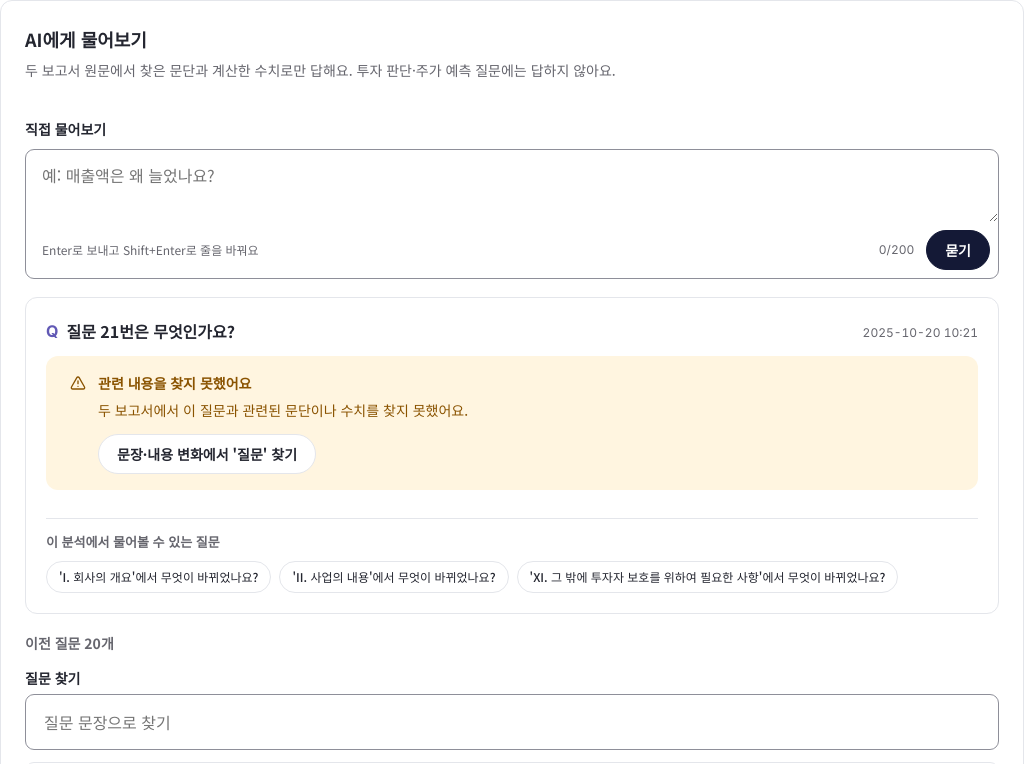
AskTab 지난 답 접기 › 질문 찾기로 목록을 좁히고, 없으면 맞는 질문이 없다고 알린다
The image size is (1024, 764).
Type "질문 1 2번" into the search field labelled "질문 찾기". click: (512, 722)
box: [25,694,999,750]
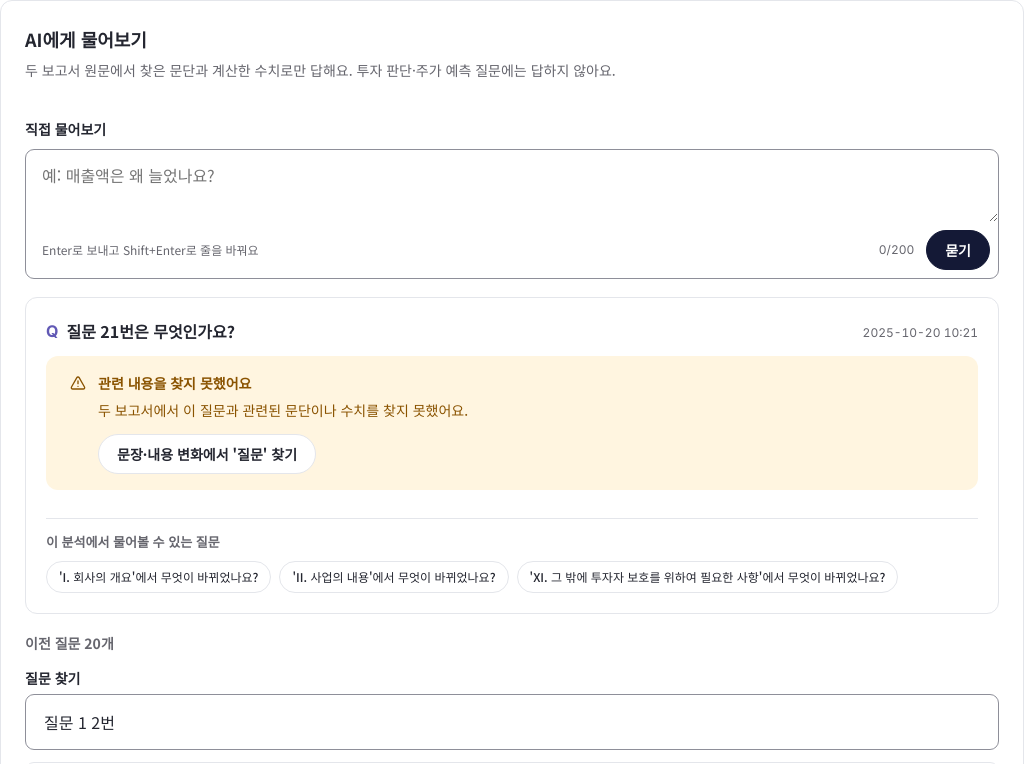
Replace the text in the search field labelled "질문 찾기" with "배당". click: (512, 722)
box: [25,694,999,750]
(page scrolled)
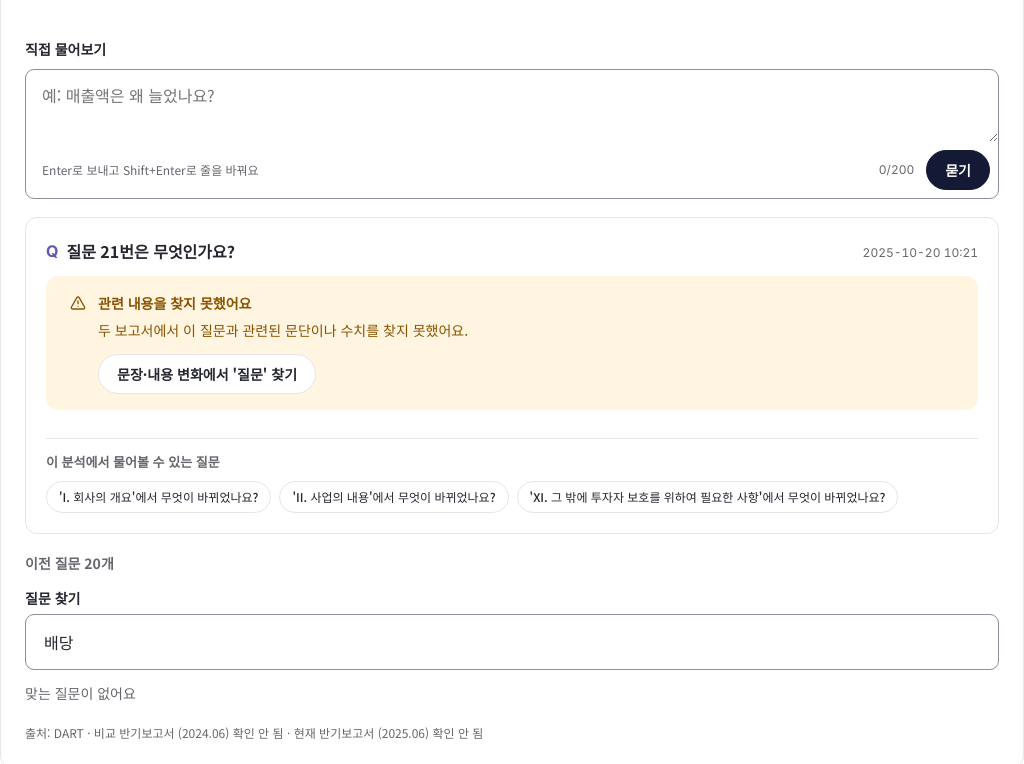
Now the text "맞는 질문이 없어요" is shown, box [25,683,136,703]
